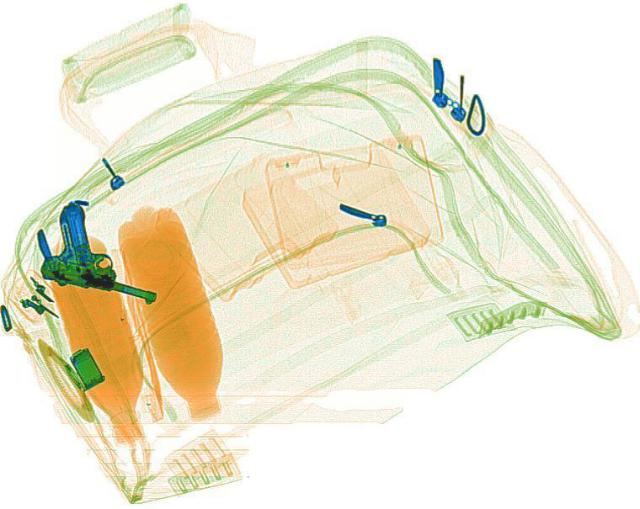Gun: (34, 196, 188, 307)
